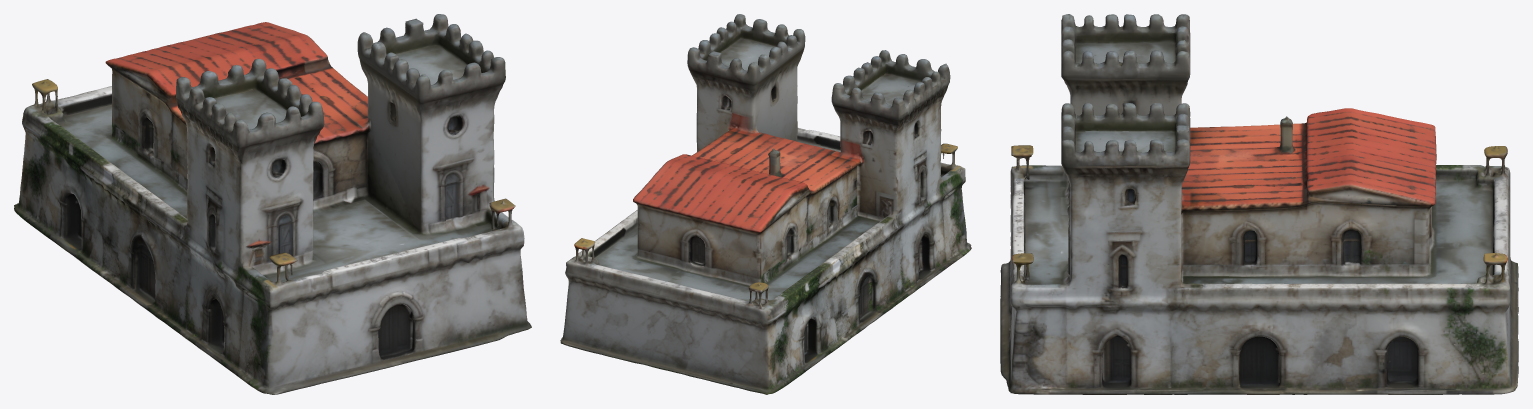
The model's file is desert_stone_house_lev2.glb.
3 renders of one model, left to right at view 1: azimuth 30°, elevation 25°; view 2: azimuth 150°, elevation 25°; view 3: azimuth 270°, elevation 25°, orthographic. The views are drawn at different scales.
Visible parts, largest first — view 1: model_0.003; view 2: model_0.003; view 3: model_0.003.
Part boxes in pixels (<box>): model_0.003: <box>14,14,531,394</box>; model_0.003: <box>560,14,971,394</box>; model_0.003: <box>1000,14,1518,394</box>.
Bounding box in the file's own units: 32.44 × 28.33 × 53.05.
Materials: 1 (1 with a texture image).
